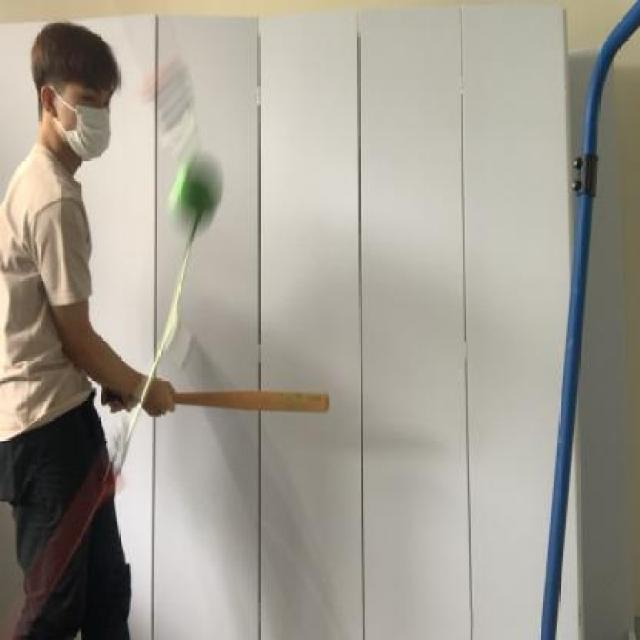baseball: (160, 147, 222, 241)
